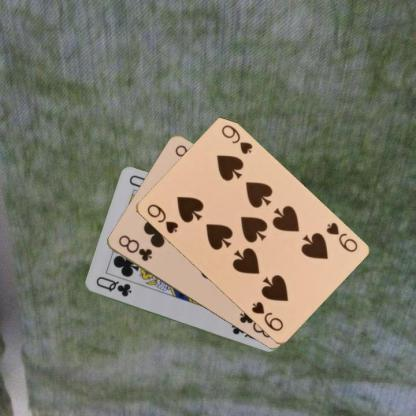8c: (116, 232, 154, 263)
9s: (144, 201, 180, 235), (323, 220, 359, 254)
Qc: (93, 274, 132, 298)
